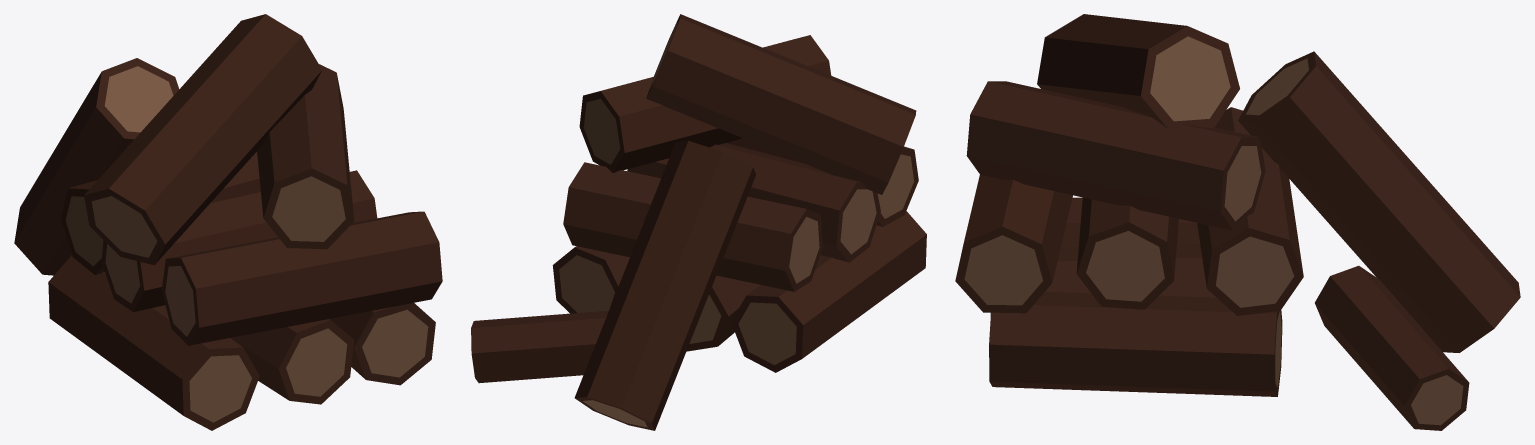
File: WoodStack.fbx
The picture shows the model from 3 angles, left to right: view 1: azimuth 30°, elevation 25°; view 2: azimuth 150°, elevation 25°; view 3: azimuth 270°, elevation 25°; orthographic projection. The views are drawn at different scales.
Visible parts, largest first — view 1: Cylinder.014, Cylinder.011, Cylinder.008, Cylinder.012, Cylinder.013, Cylinder.009, Cylinder.006, Cylinder.007, Cylinder.010; view 2: Cylinder.012, Cylinder.014, Cylinder.010, Cylinder.008, Cylinder.013, Cylinder.009, Cylinder.015, Cylinder.007, Cylinder.006, Cylinder.011; view 3: Cylinder.012, Cylinder.013, Cylinder.007, Cylinder.014, Cylinder.015, Cylinder.011, Cylinder.010, Cylinder.009, Cylinder.006, Cylinder.008.
Boxes of the visible parts, x1=… form: Cylinder.014: x1=84, y1=14, x2=321, y2=265; Cylinder.011: x1=161, y1=211, x2=442, y2=345; Cylinder.008: x1=48, y1=255, x2=259, y2=430; Cylinder.012: x1=14, y1=58, x2=179, y2=275; Cylinder.013: x1=257, y1=64, x2=354, y2=249; Cylinder.009: x1=101, y1=170, x2=377, y2=312; Cylinder.006: x1=230, y1=319, x2=354, y2=404; Cylinder.007: x1=329, y1=303, x2=435, y2=385; Cylinder.010: x1=60, y1=152, x2=260, y2=274; Cylinder.012: x1=574, y1=140, x2=756, y2=430; Cylinder.014: x1=646, y1=14, x2=916, y2=194; Cylinder.010: x1=563, y1=162, x2=822, y2=291; Cylinder.008: x1=731, y1=211, x2=926, y2=372; Cylinder.013: x1=579, y1=35, x2=831, y2=172; Cylinder.009: x1=627, y1=143, x2=880, y2=262; Cylinder.015: x1=471, y1=310, x2=608, y2=383; Cylinder.007: x1=552, y1=246, x2=629, y2=313; Cylinder.006: x1=686, y1=275, x2=760, y2=351; Cylinder.011: x1=726, y1=138, x2=918, y2=226; Cylinder.012: x1=1238, y1=51, x2=1520, y2=352; Cylinder.013: x1=966, y1=81, x2=1265, y2=230; Cylinder.007: x1=989, y1=291, x2=1282, y2=396; Cylinder.014: x1=1037, y1=14, x2=1239, y2=129; Cylinder.015: x1=1315, y1=265, x2=1469, y2=430; Cylinder.011: x1=955, y1=174, x2=1072, y2=313; Cylinder.010: x1=1197, y1=107, x2=1303, y2=315; Cylinder.009: x1=1076, y1=197, x2=1178, y2=309; Cylinder.006: x1=990, y1=243, x2=1215, y2=314; Cylinder.008: x1=1061, y1=197, x2=1199, y2=246.
Bounding box in the file's own units: 241 × 236 × 336.
